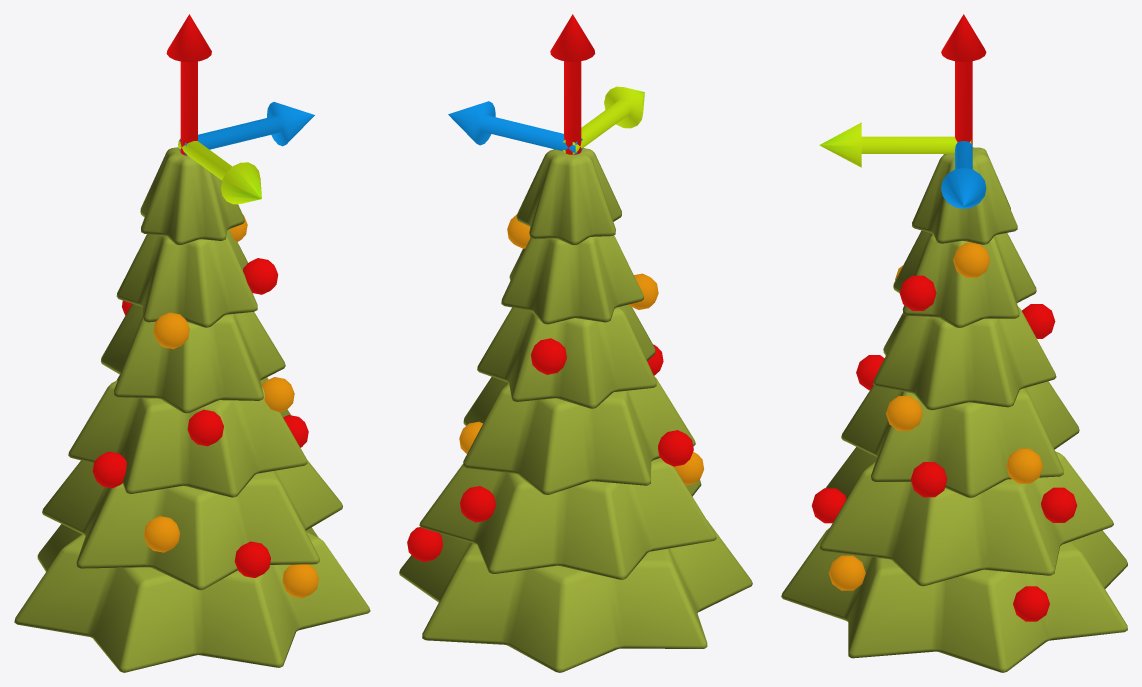
The model's file is christmasTreeVisual-compressed.glb.
The picture shows the model from 3 angles, left to right: view 1: azimuth 30°, elevation 25°; view 2: azimuth 150°, elevation 25°; view 3: azimuth 270°, elevation 25°; orthographic projection.
Parts seen in each view (by area): view 1: christmasTreeBody, emissive; view 2: christmasTreeBody, emissive; view 3: christmasTreeBody, emissive.
Boxes of the visible parts, bbox=[...] form: christmasTreeBody: bbox=[14, 147, 370, 672]; emissive: bbox=[92, 14, 318, 598]; christmasTreeBody: bbox=[399, 148, 752, 672]; emissive: bbox=[407, 14, 703, 561]; christmasTreeBody: bbox=[781, 147, 1127, 672]; emissive: bbox=[811, 14, 1077, 621].
Bounding box in the file's own units: 3.7 × 6.71 × 3.61.
